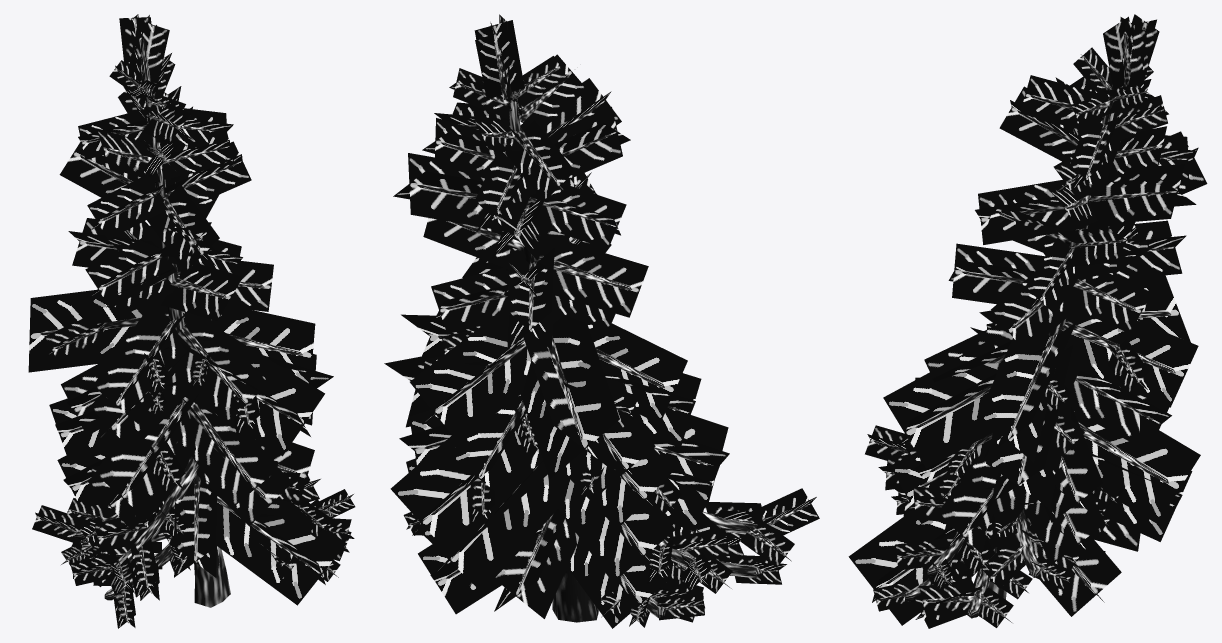
File: AraTree08a.glb
3 renders of one model, left to right at view 1: azimuth 30°, elevation 25°; view 2: azimuth 150°, elevation 25°; view 3: azimuth 270°, elevation 25°, orthographic. The views are drawn at different scales.
Visible parts, largest first — view 1: AraTree08a_twigs; view 2: AraTree08a_twigs; view 3: AraTree08a_twigs.
Boxes of the visible parts, bbox=[...] form: AraTree08a_twigs: bbox=[28, 14, 355, 628]; AraTree08a_twigs: bbox=[384, 14, 819, 628]; AraTree08a_twigs: bbox=[848, 14, 1207, 628].
Size of the model in its own units: 2.51 by 4.42 by 2.44.
2 materials, 2 textured.
